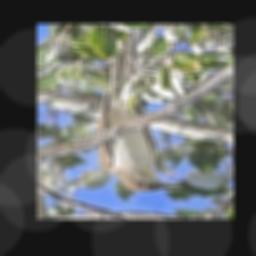Cuckoo: (97, 34, 181, 191)
